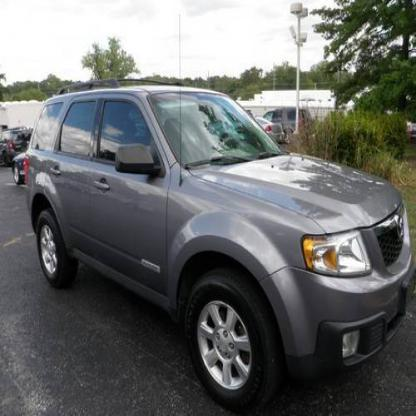Vehicle: (25, 86, 415, 415)
